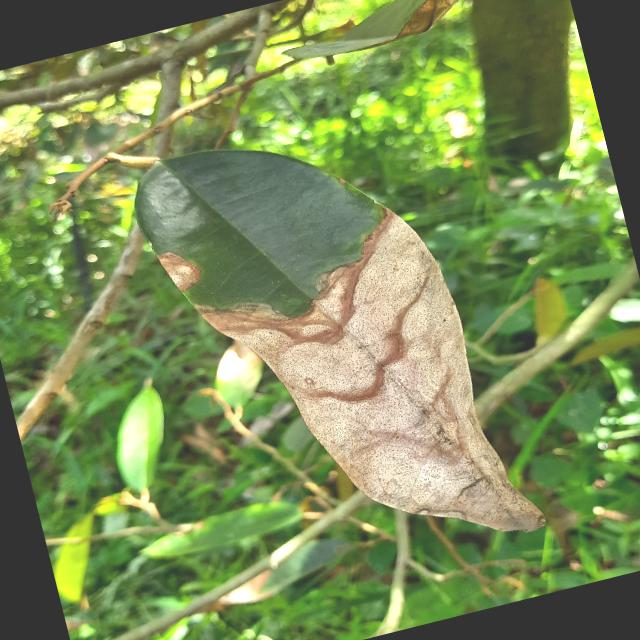Leaf Blight: (116, 79, 560, 610)
